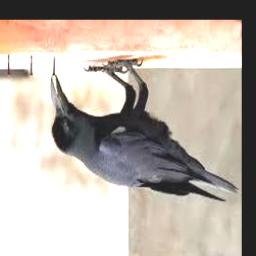Crow: (51, 58, 240, 204)
